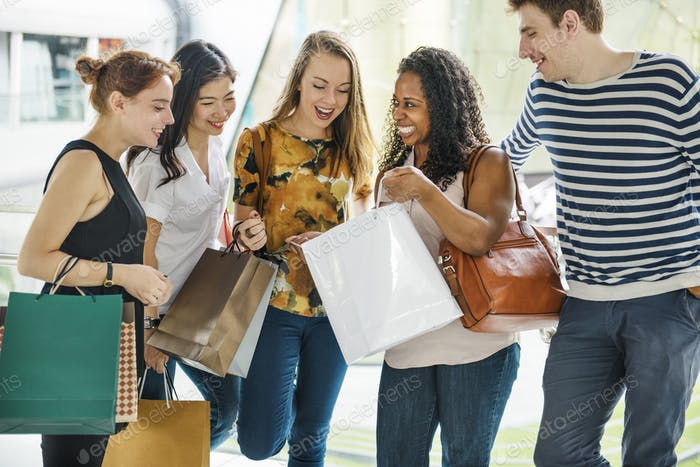Person: (496, 9, 700, 406), (13, 47, 179, 311), (234, 38, 377, 261), (390, 45, 523, 263), (146, 34, 244, 255)
